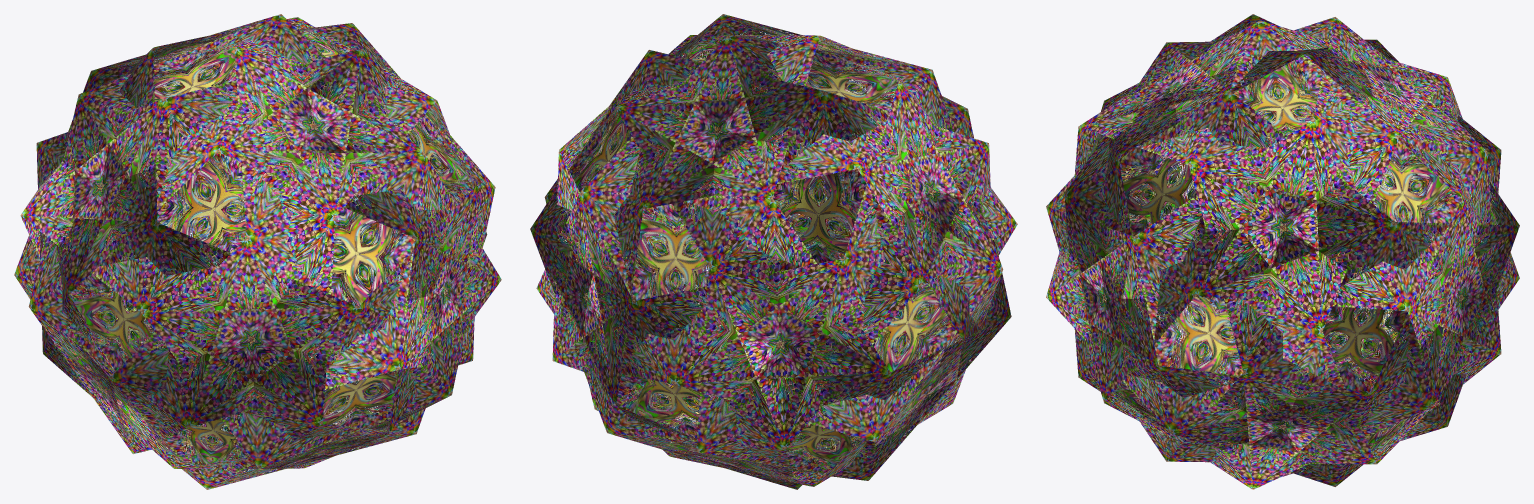
Rendered from 18SnubIcosidodecadodecahedron.gltf.
3 renders of one model, left to right at view 1: azimuth 30°, elevation 25°; view 2: azimuth 150°, elevation 25°; view 3: azimuth 270°, elevation 25°, orthographic.
Parts seen in each view (by area): view 1: 16SnubIcosidodecadodecahedron; view 2: 16SnubIcosidodecadodecahedron; view 3: 16SnubIcosidodecadodecahedron.
Part boxes in pixels (x1=…): 16SnubIcosidodecadodecahedron: x1=14, y1=14, x2=501, y2=489; 16SnubIcosidodecadodecahedron: x1=530, y1=14, x2=1017, y2=489; 16SnubIcosidodecadodecahedron: x1=1046, y1=14, x2=1519, y2=489.
Bounding box in the file's own units: 2.21 × 2.21 × 2.21.
1 material, 1 textured.
